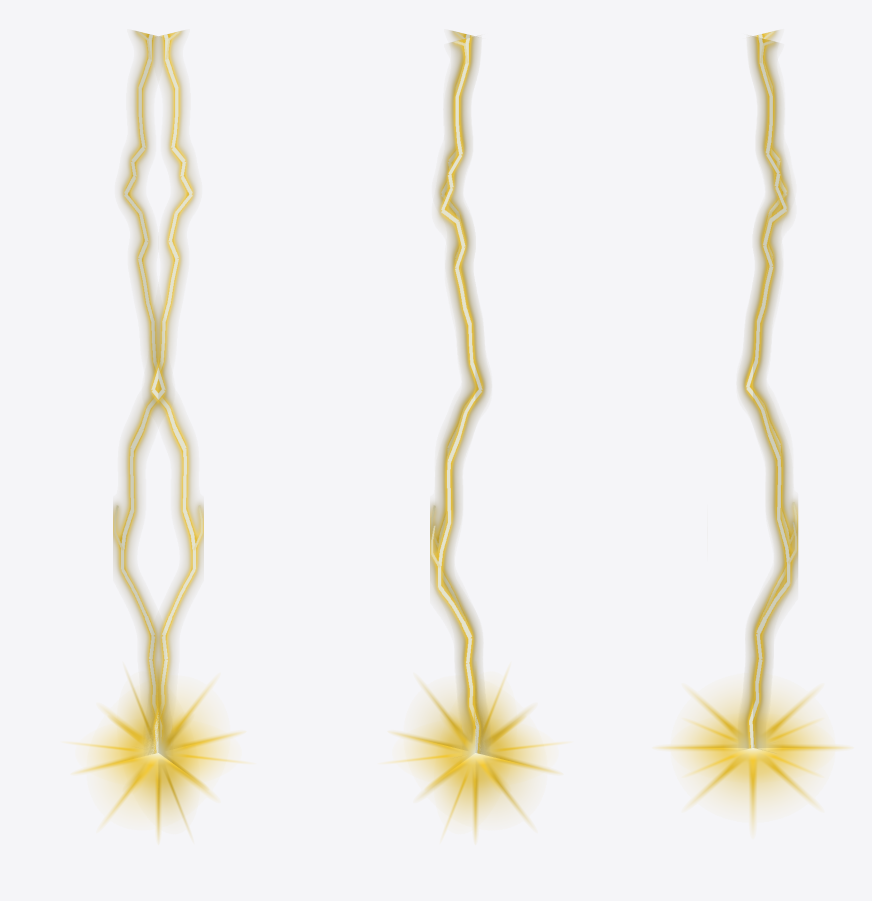
The model's file is fx_rain_bolt.glb.
The picture shows the model from 3 angles, left to right: view 1: azimuth 30°, elevation 25°; view 2: azimuth 150°, elevation 25°; view 3: azimuth 270°, elevation 25°; orthographic projection.
Parts seen in each view (by area): view 1: fx_bolt, fx_bolt_glow; view 2: fx_bolt, fx_bolt_glow; view 3: fx_bolt, fx_bolt_glow.
Part boxes in pixels (x1,y1,x2,y2): fx_bolt: (113, 31, 203, 753); fx_bolt_glow: (73, 666, 243, 839); fx_bolt: (430, 31, 488, 753); fx_bolt_glow: (390, 667, 560, 839); fx_bolt: (740, 30, 798, 749); fx_bolt_glow: (658, 672, 847, 827).
Size of the model in its own units: 2.4 by 10.2 by 2.4.
2 materials, 2 textured.
